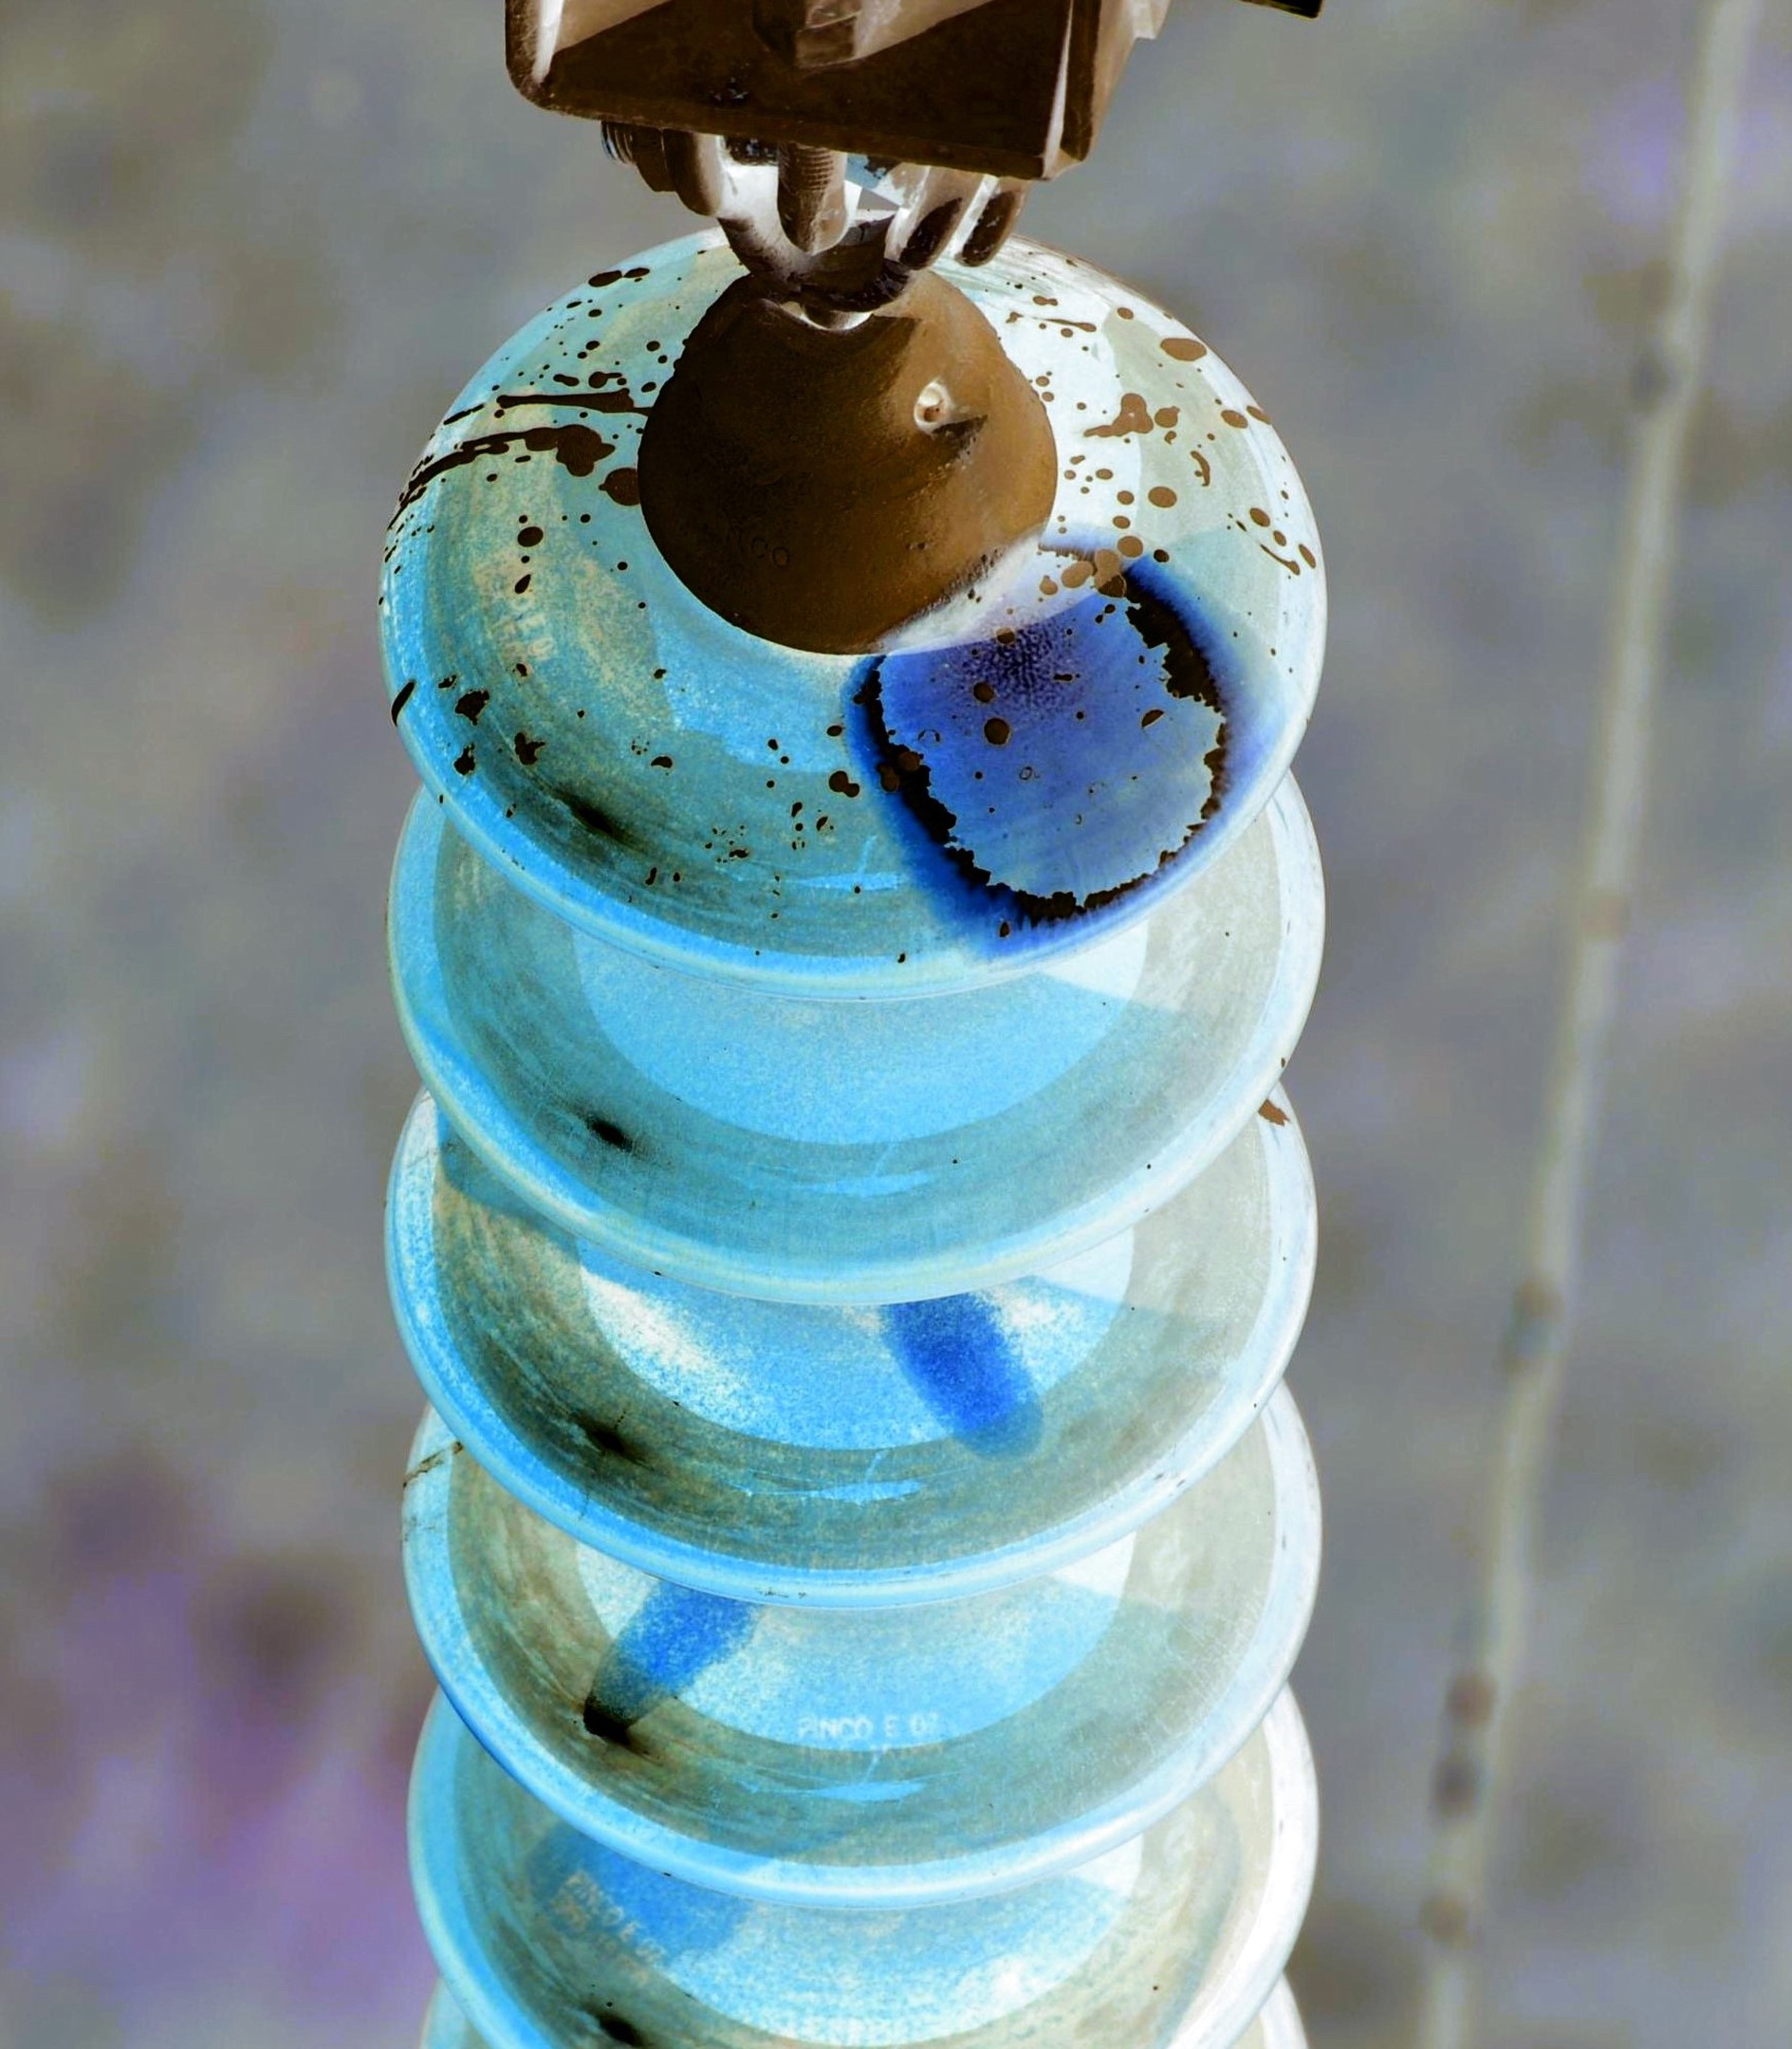Insulator flashover: (361, 206, 1344, 1000)
